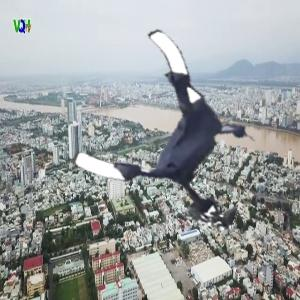drone: (88, 38, 262, 212)
